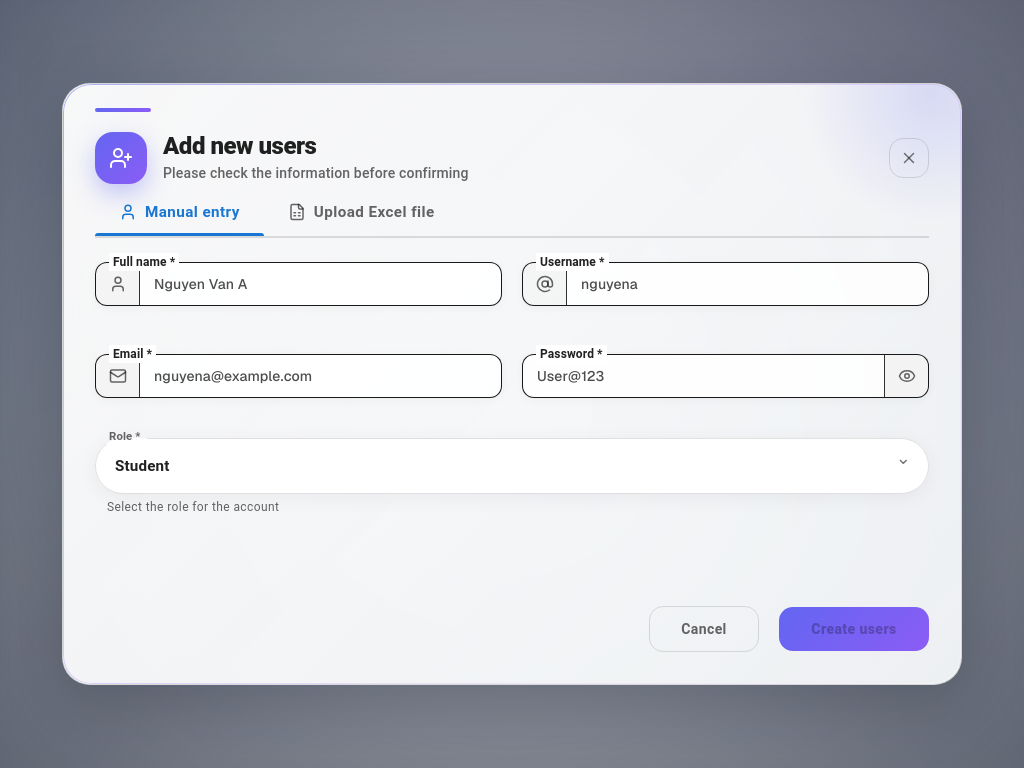
Test: UserFormDialog › shouldSwitchTabToExcelImportWhenClicked
The width and height of the screenshot is (1024, 768).
Click the tab "Upload Excel file" at (361, 212), box [264,188,459,236]
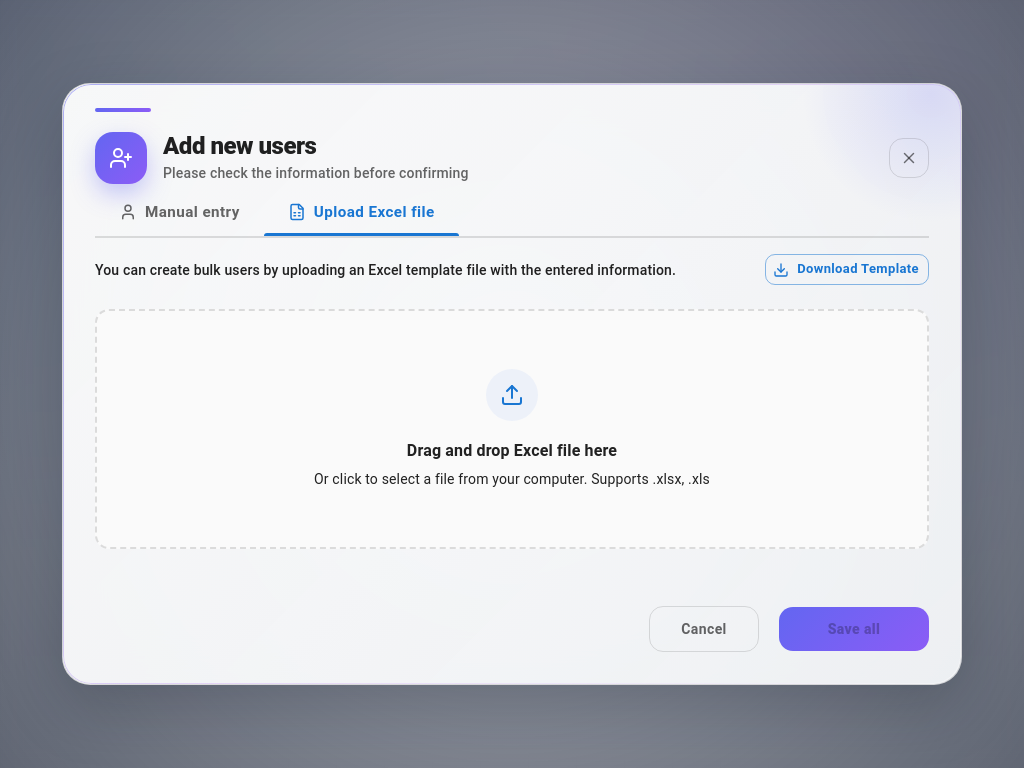
Check: the heading "Drag and drop Excel file here" is shown, box [407,437,617,465]
